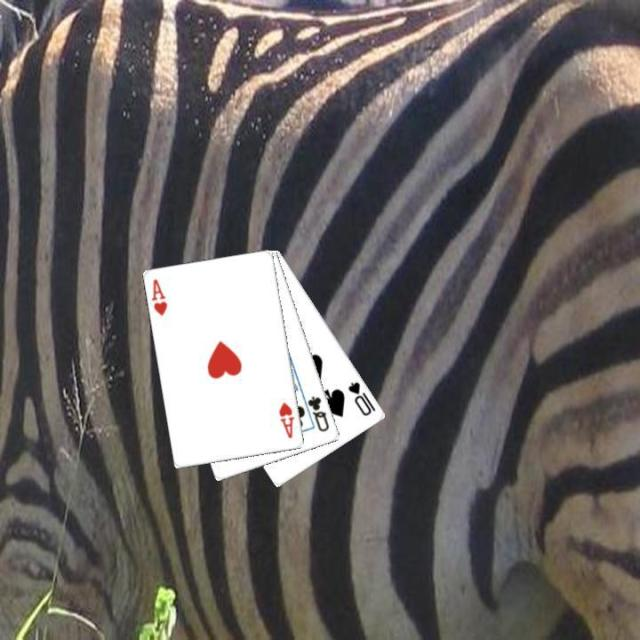10S: (344, 378, 378, 418)
AH: (147, 276, 169, 318), (276, 398, 296, 440)
QC: (304, 392, 332, 434)
